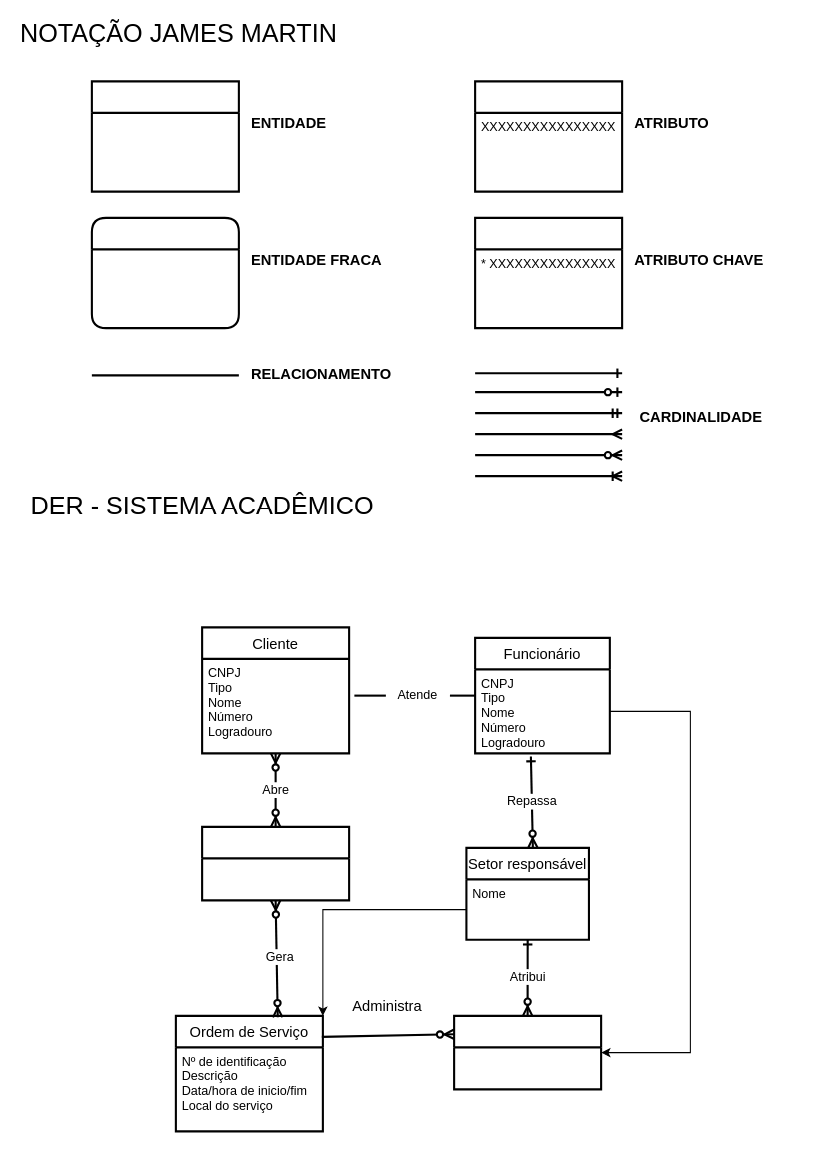
This 813x1152 diagram has some shape labels left out. The centre of each missing label's shape, as x and y in pixels:
"Chamados" goes at point 275,863.
"Setor de controle" goes at point 527,1052.
